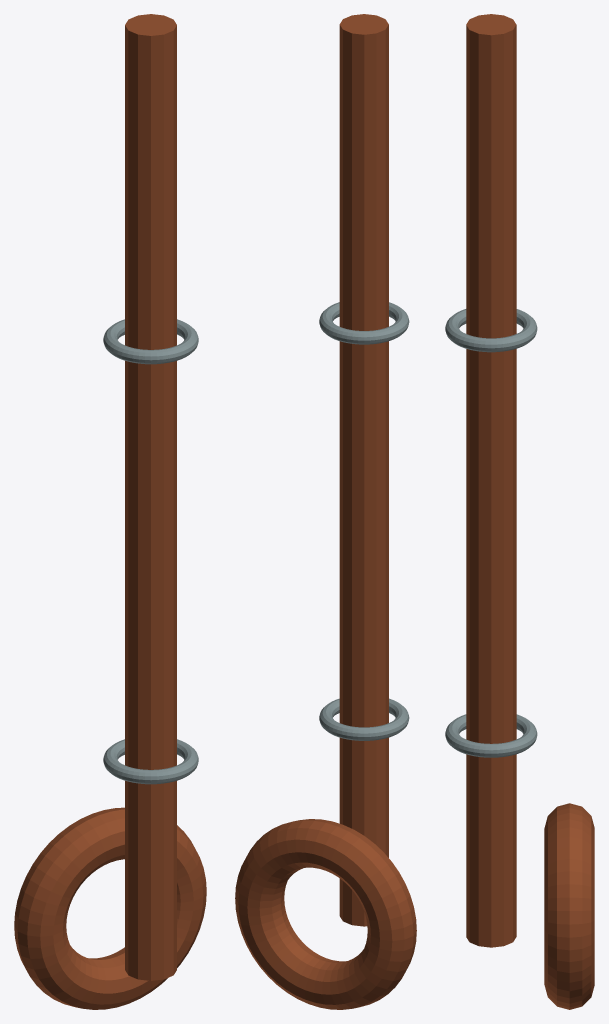
Rendered from SM_FC01_Prop_DrainPipe_A.fbx.
The picture shows the model from 3 angles, left to right: view 1: azimuth 30°, elevation 25°; view 2: azimuth 150°, elevation 25°; view 3: azimuth 270°, elevation 25°; orthographic projection. The views are drawn at different scales.
Parts seen in each view (by area): view 1: SM_FC01_Prop_DrainPipe_A_Vertical, トーラス.009, トーラス.010, トーラス.011; view 2: SM_FC01_Prop_DrainPipe_A_Vertical, トーラス.009, トーラス.011, トーラス.010; view 3: SM_FC01_Prop_DrainPipe_A_Vertical, トーラス.009, トーラス.010, トーラス.011.
Boxes of the visible parts, left/top/right/bottom form: SM_FC01_Prop_DrainPipe_A_Vertical: left=125, top=14, right=176, bottom=980; トーラス.009: left=14, top=807, right=206, bottom=1009; トーラス.010: left=103, top=739, right=198, bottom=784; トーラス.011: left=103, top=319, right=198, bottom=364; SM_FC01_Prop_DrainPipe_A_Vertical: left=339, top=14, right=388, bottom=926; トーラス.009: left=235, top=819, right=416, bottom=1009; トーラス.011: left=319, top=302, right=409, bottom=344; トーラス.010: left=319, top=698, right=409, bottom=740; SM_FC01_Prop_DrainPipe_A_Vertical: left=466, top=14, right=516, bottom=947; トーラス.009: left=544, top=803, right=594, bottom=1009; トーラス.010: left=445, top=714, right=537, bottom=757; トーラス.011: left=445, top=309, right=537, bottom=352.
Bounding box in the file's own units: 0.74 × 3.85 × 0.535.
